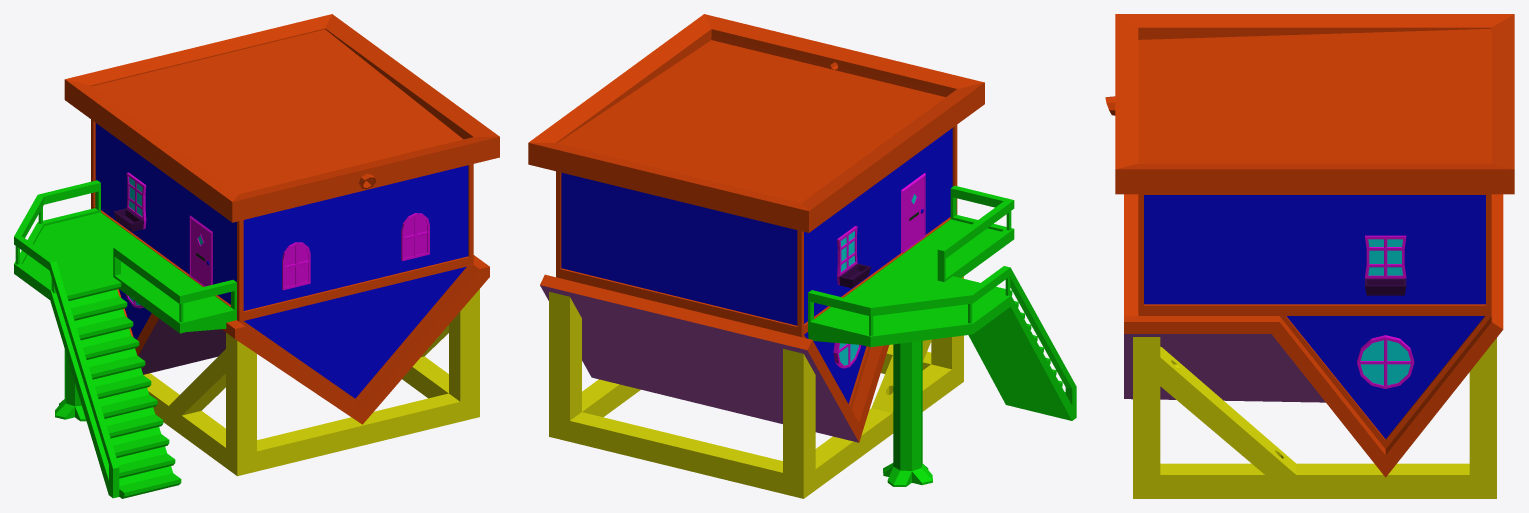
Rendered from UpsideDownHouse.fbx.
3 views of the same model, side by side, from view 1: azimuth 30°, elevation 25°; view 2: azimuth 150°, elevation 25°; view 3: azimuth 270°, elevation 25° (orthographic). The views are drawn at different scales.
Visible parts, largest first — view 1: BasicUpsideDownHouse; view 2: BasicUpsideDownHouse; view 3: BasicUpsideDownHouse.
Boxes of the visible parts, x1,y1,x2,y2 form: BasicUpsideDownHouse: (14, 14, 499, 498); BasicUpsideDownHouse: (528, 14, 1076, 498); BasicUpsideDownHouse: (1105, 14, 1514, 498).
Size of the model in its own units: 17.8 by 12.96 by 14.28.
